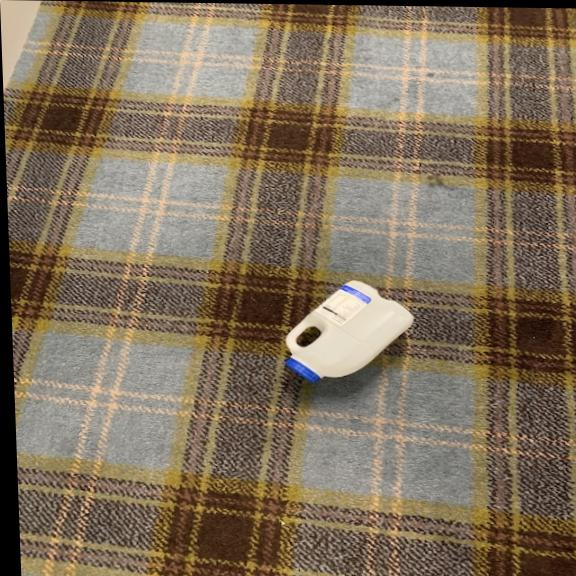Plastik: (278, 282, 416, 391)
